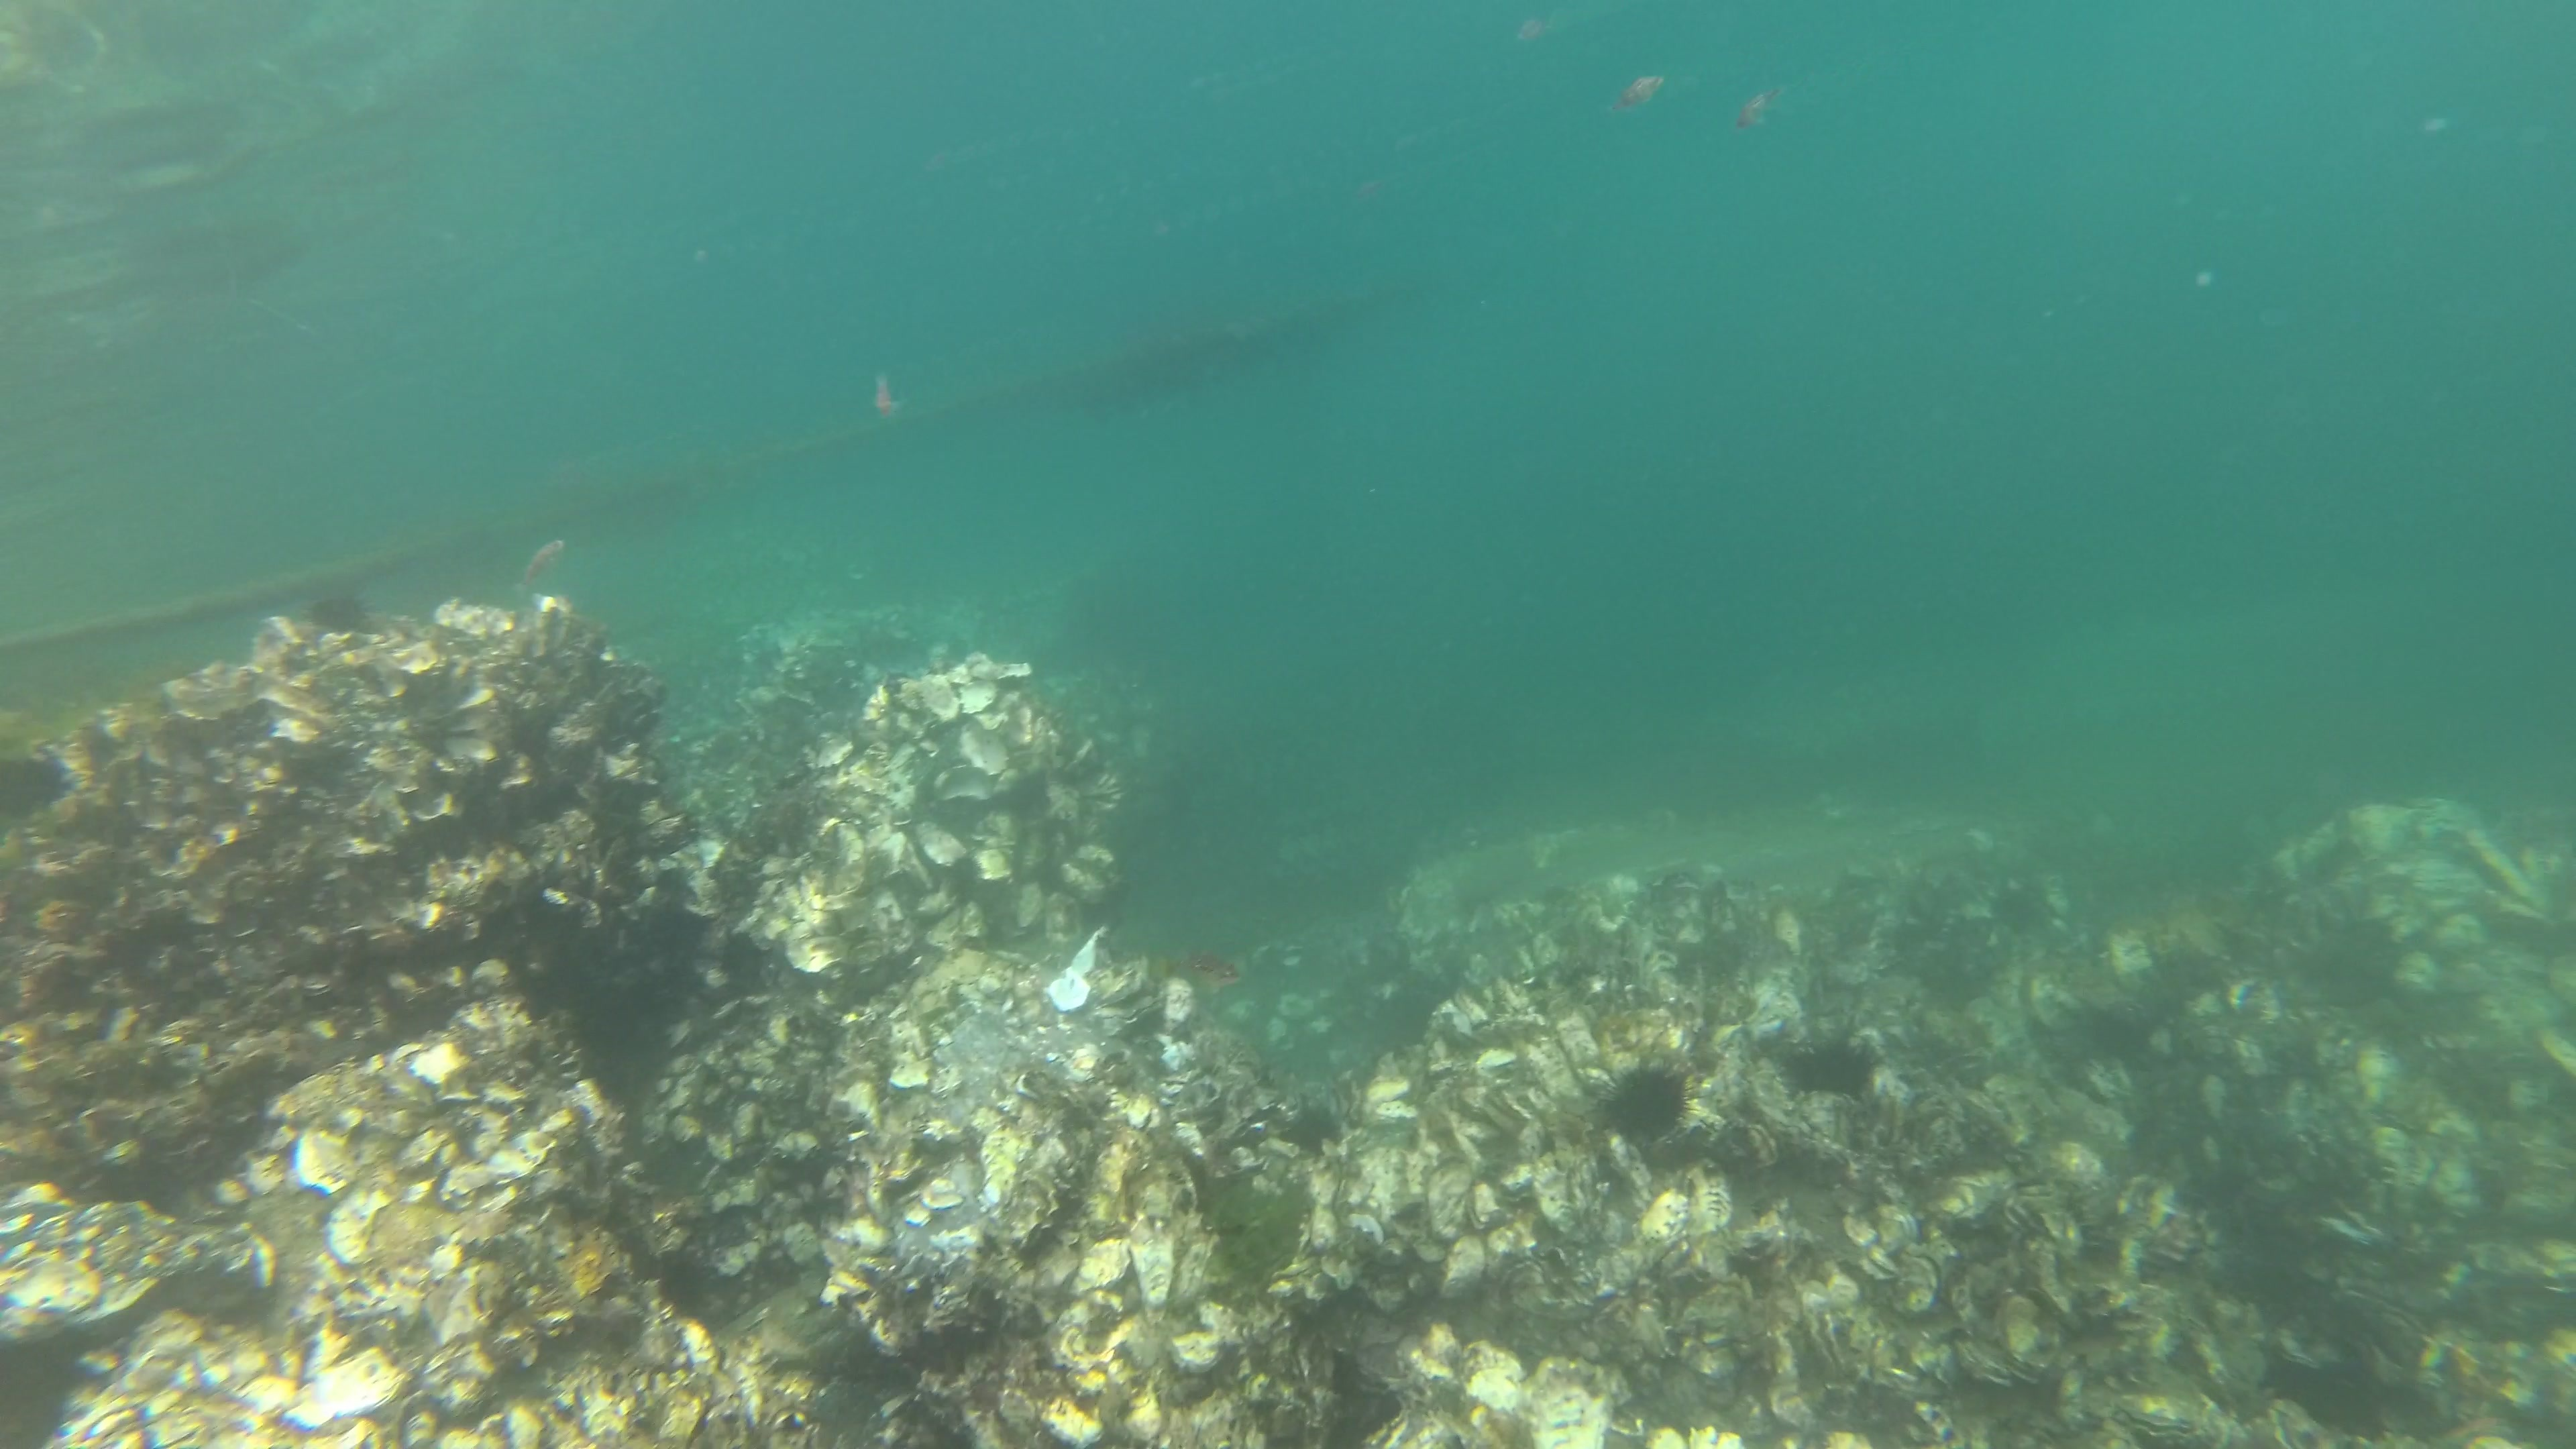echinus: (1601, 1058, 1695, 1143), (1785, 1035, 1881, 1102), (1284, 1100, 1346, 1155), (304, 589, 373, 632)
